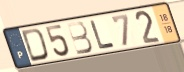2: (135, 9, 162, 44)
5: (44, 23, 71, 58)
7: (110, 12, 131, 48)
B: (65, 20, 95, 56)
D: (20, 26, 50, 63)
L: (89, 19, 117, 51)
